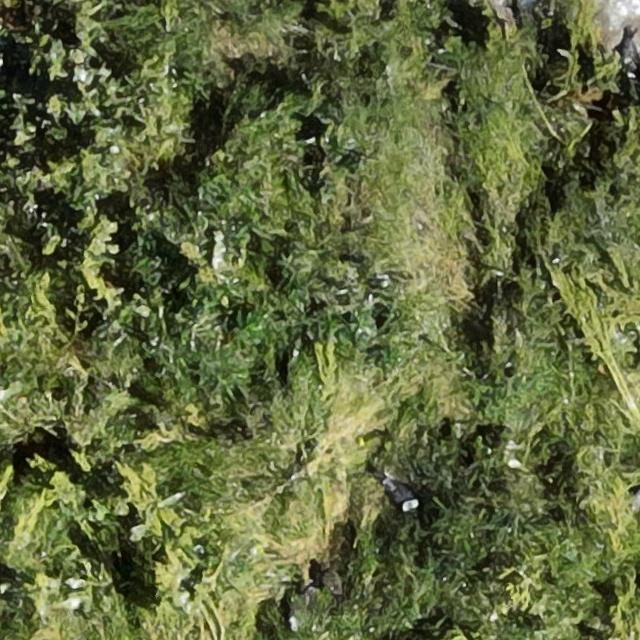umineko: (388, 482, 418, 511)
